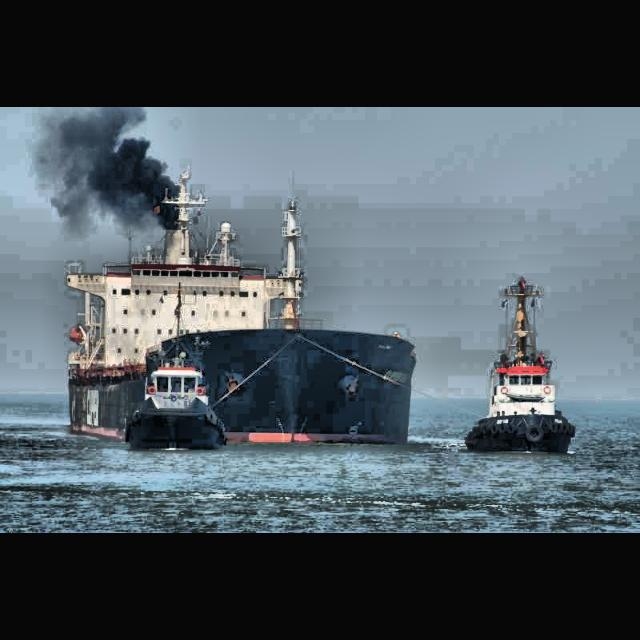bulk_carrier: (65, 166, 418, 446)
tug: (464, 335, 578, 455), (120, 350, 234, 456)
